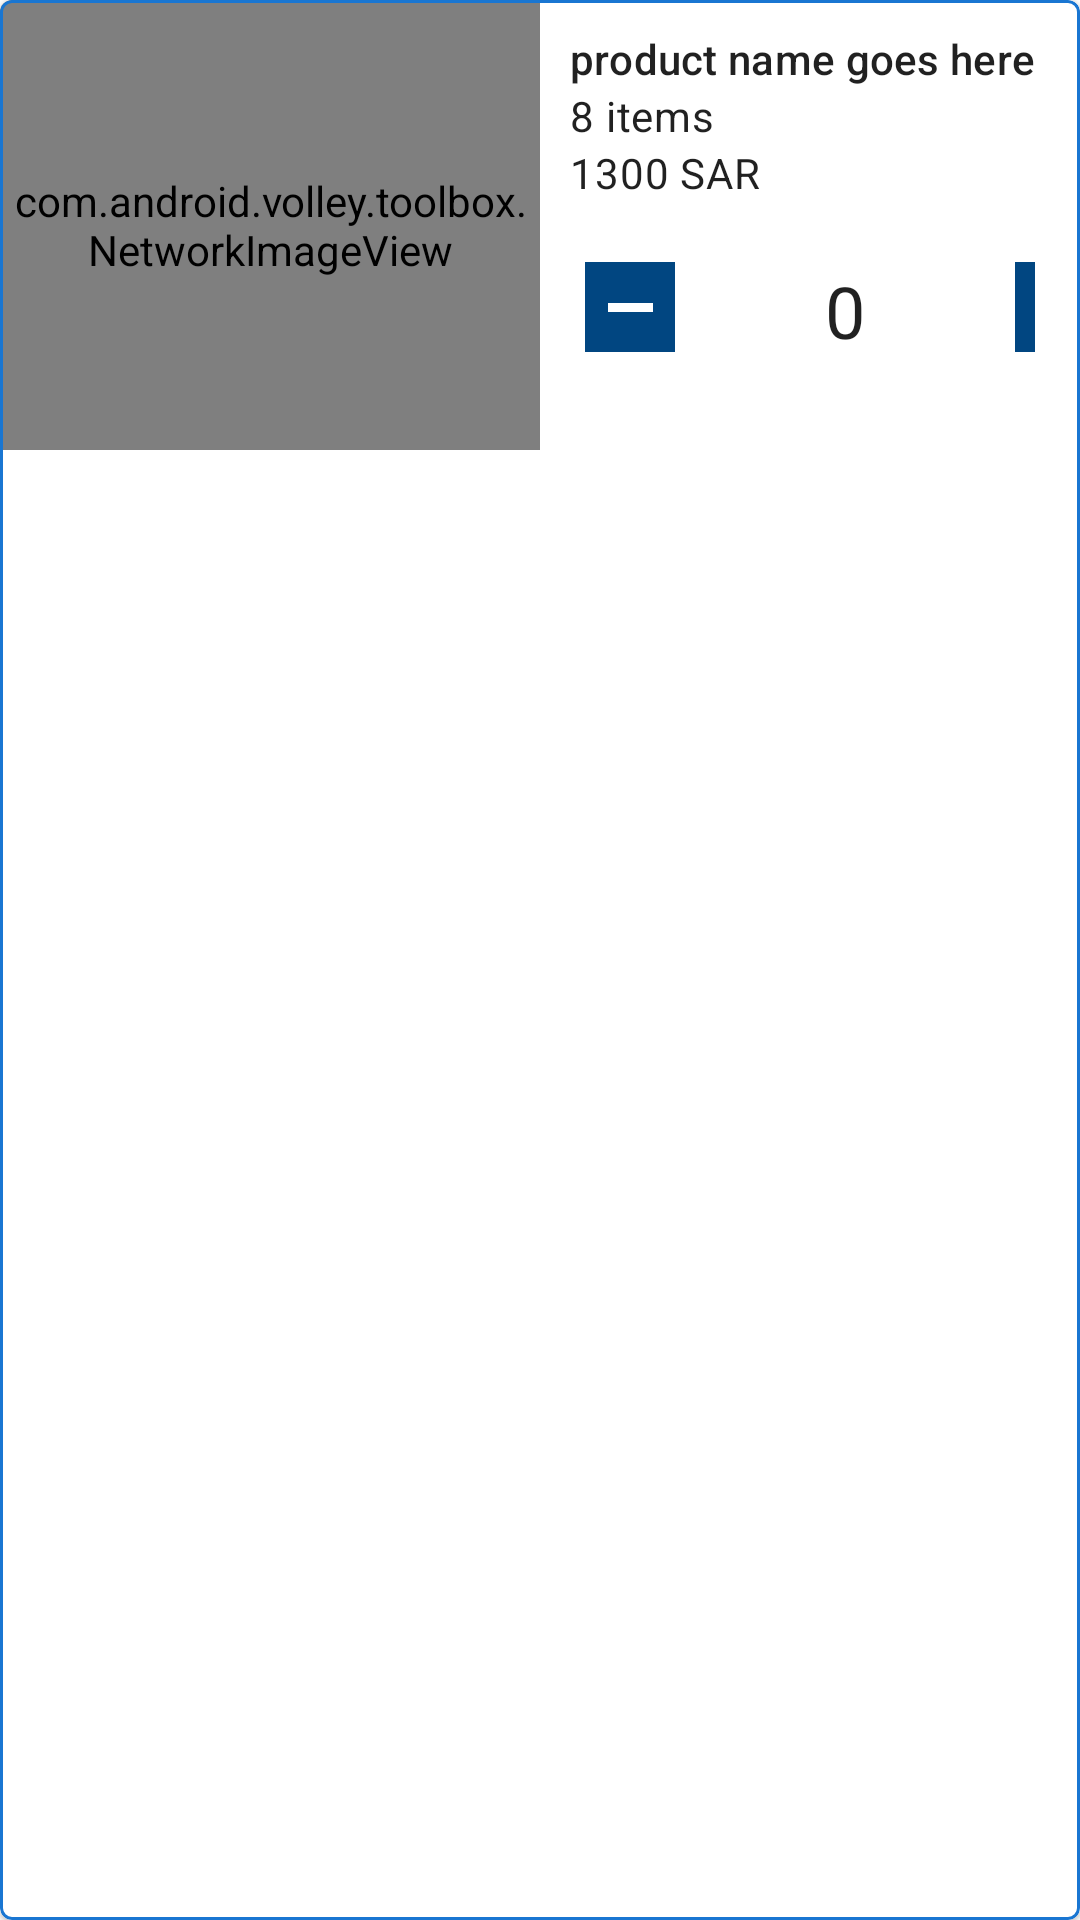

Point at icon controls on the screen. Image size 1080 x 1920, points as (x,y).
subtract: (630,307)
